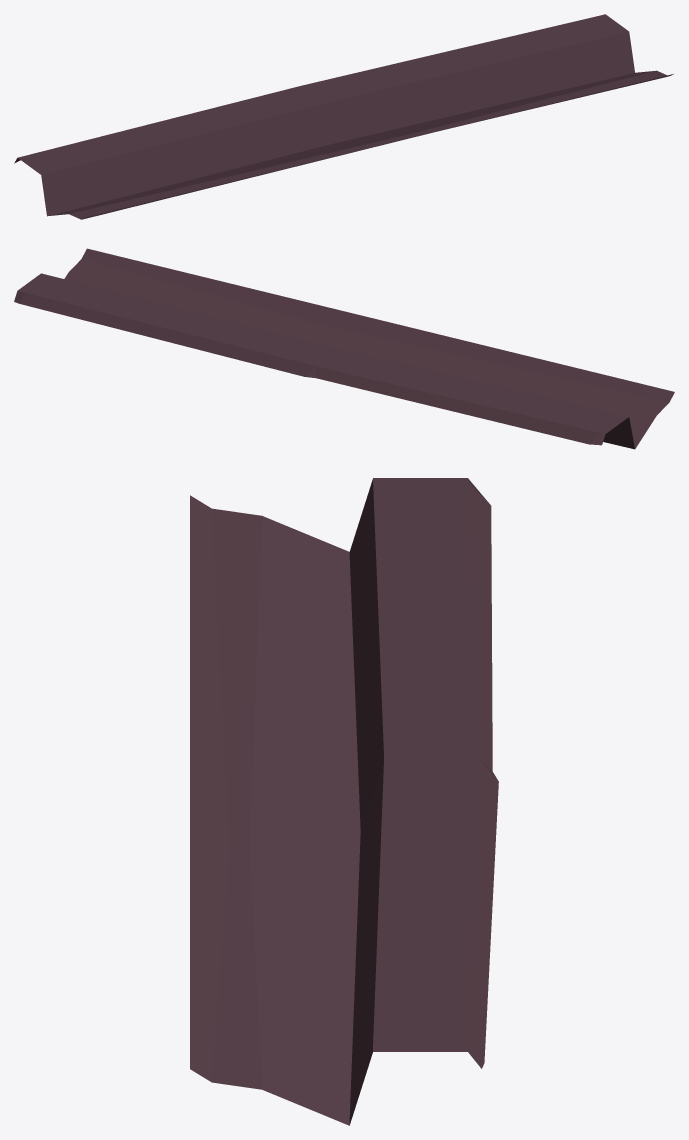
The model's file is gutter.fbx.
3 renders of one model, top to bottom at view 1: azimuth 30°, elevation 25°; view 2: azimuth 150°, elevation 25°; view 3: azimuth 270°, elevation 25°, orthographic. The views are drawn at different scales.
Parts seen in each view (by area): view 1: SM_Env_Sidewalk_Straight_01; view 2: SM_Env_Sidewalk_Straight_01; view 3: SM_Env_Sidewalk_Straight_01.
Boxes of the visible parts, x1,y1,x2,y2 form: SM_Env_Sidewalk_Straight_01: (14, 14, 673, 219); SM_Env_Sidewalk_Straight_01: (14, 248, 674, 449); SM_Env_Sidewalk_Straight_01: (190, 478, 498, 1125).
Bounding box in the file's own units: 5 × 0.3 × 1.14.
